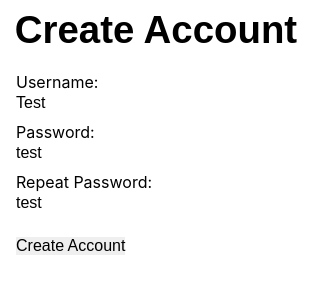
Test: Create Account › should display success message if account created
The width and height of the screenshot is (320, 307).
Click the button "Create Account".
click(71, 246)  # box x1=16 y1=237 x2=125 y2=255
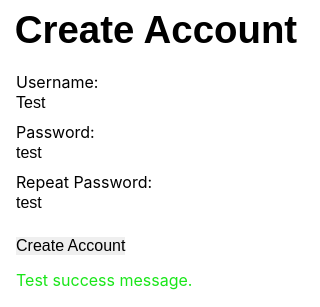
Check: the text "Test success message." is shown, box x1=16 y1=270 x2=192 y2=290
